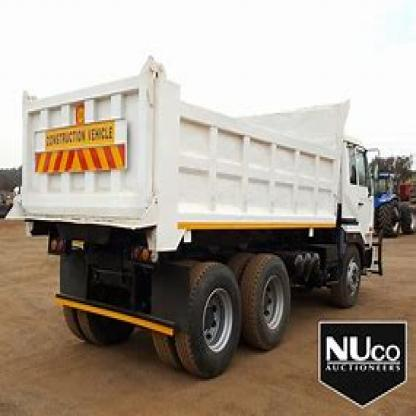dump_truck: (15, 43, 391, 382)
